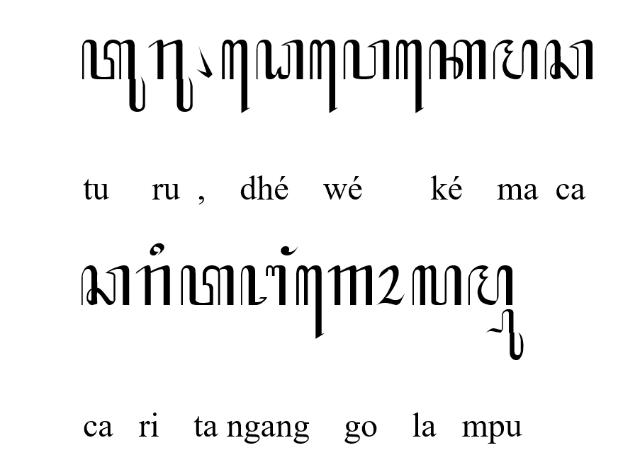_pu: (484, 308, 524, 362)
c: (544, 38, 594, 81), (80, 264, 130, 306)
dh: (254, 39, 304, 81)
e1: (220, 39, 250, 115), (308, 40, 338, 114), (296, 264, 324, 342), (396, 39, 424, 114)
g: (327, 266, 373, 308)
i: (149, 242, 165, 256)
k: (429, 40, 487, 80)
kom: (195, 46, 212, 78)
l: (412, 264, 462, 308), (466, 265, 514, 307)
m: (492, 38, 538, 80)
ng: (280, 245, 298, 257)
nga: (240, 263, 286, 307)
o: (377, 264, 405, 306)
r: (135, 265, 171, 307)
ru: (148, 39, 194, 113)
t: (180, 264, 236, 306)
tu: (80, 37, 146, 113)
w: (344, 39, 391, 81)
